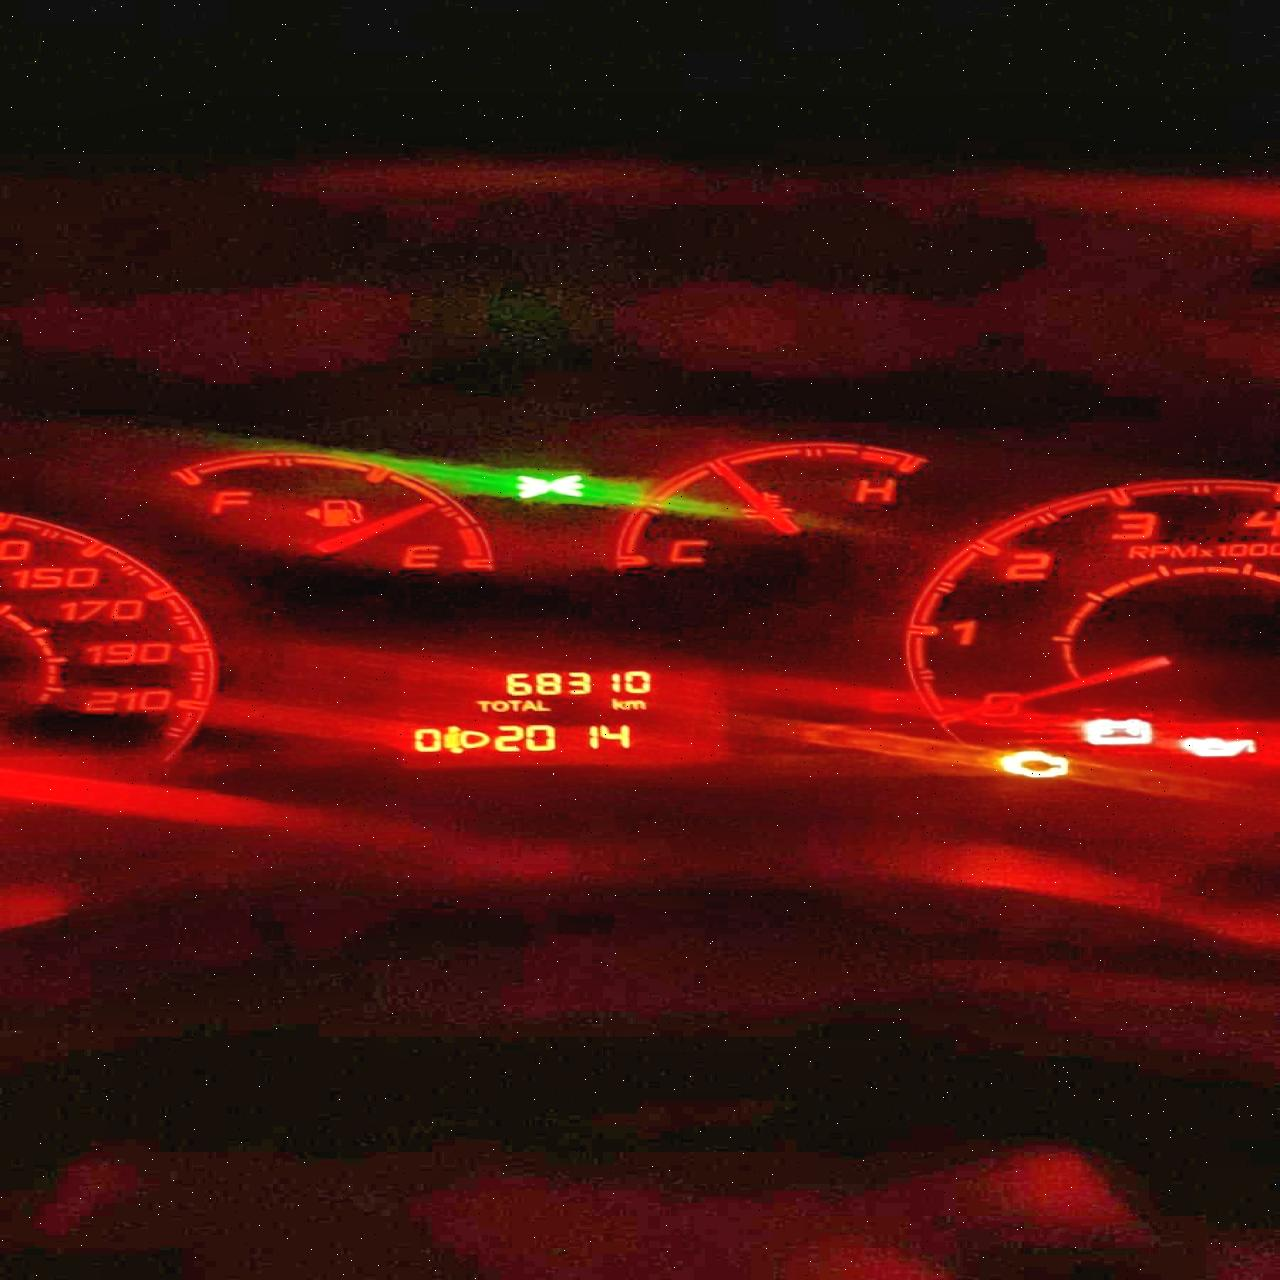0: (524, 723, 554, 753), (410, 726, 440, 753), (621, 668, 649, 694)
1: (584, 724, 599, 751), (607, 670, 619, 694)
2: (493, 723, 522, 754)
3: (566, 670, 592, 694)
4: (599, 723, 631, 750)
6: (505, 670, 530, 696)
8: (537, 670, 560, 695)
X: (474, 696, 489, 714), (625, 697, 646, 709), (490, 699, 506, 712), (535, 699, 550, 712), (506, 699, 522, 712), (610, 696, 622, 710), (522, 699, 535, 712)
odometer: (384, 652, 745, 775)
